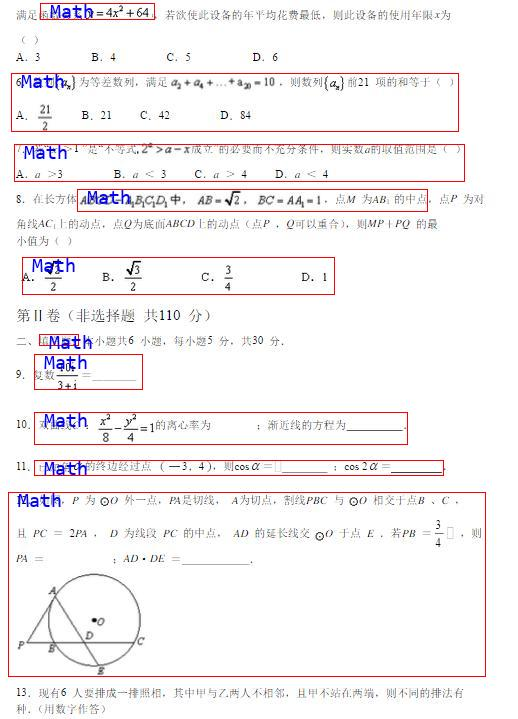Math: (8, 492, 485, 676), (11, 73, 458, 131), (14, 144, 464, 181), (34, 412, 407, 444), (22, 257, 334, 294), (77, 189, 427, 211), (34, 460, 443, 475), (34, 354, 142, 389), (40, 3, 154, 19), (39, 334, 78, 345)
